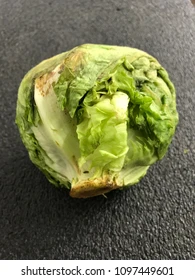lettuce rotten: (13, 39, 180, 212)
